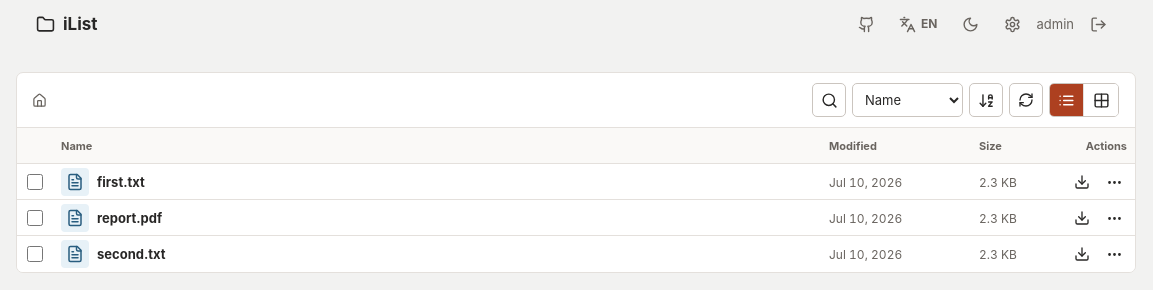
page states and feedback › keeps failed batch entries selected and announces counts in the toast region
Click the 1st checkbox named "Select first.txt".
click(35, 182)  # box [27,174,43,190]
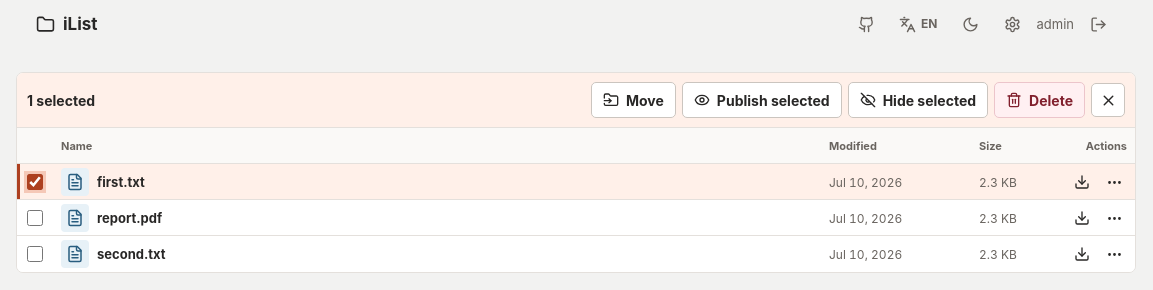
Click the 3rd checkbox named "Select second.txt".
click(35, 254)  # box [27,246,43,262]
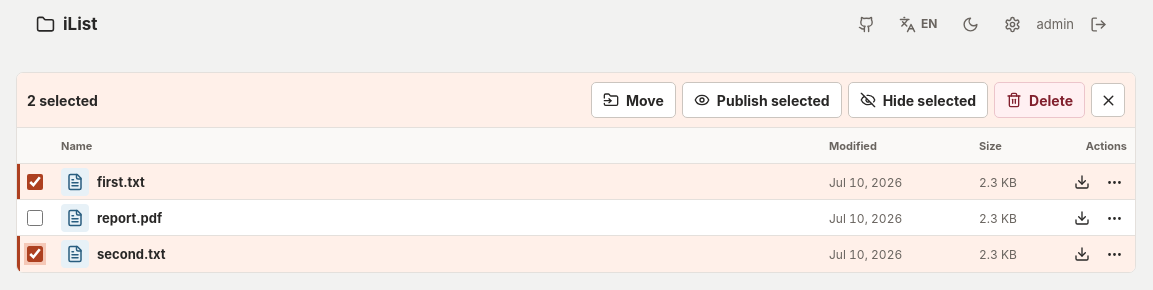
Click the button "Hide selected".
click(918, 100)  # box [848,82,988,118]
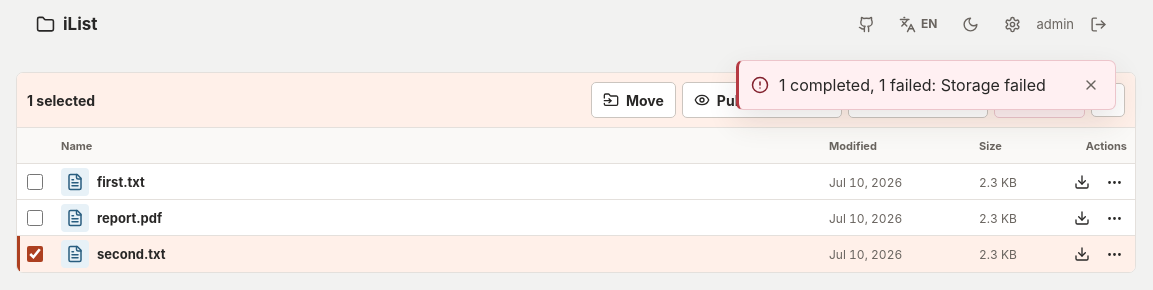
Check: the 3rd checkbox named "Select second.txt" is checked, box [27,246,43,262]
Check: the element named "Notifications" shows "1 completed, 1 failed", box [779,75,1046,95]
